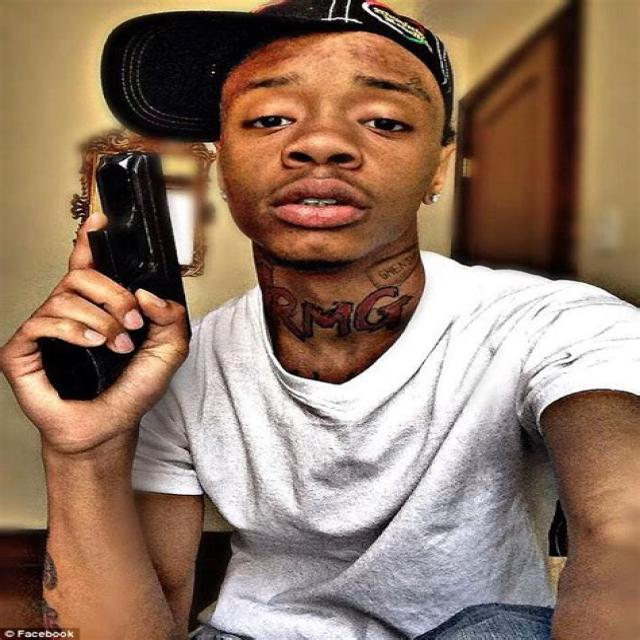weapons: (22, 124, 192, 415)
